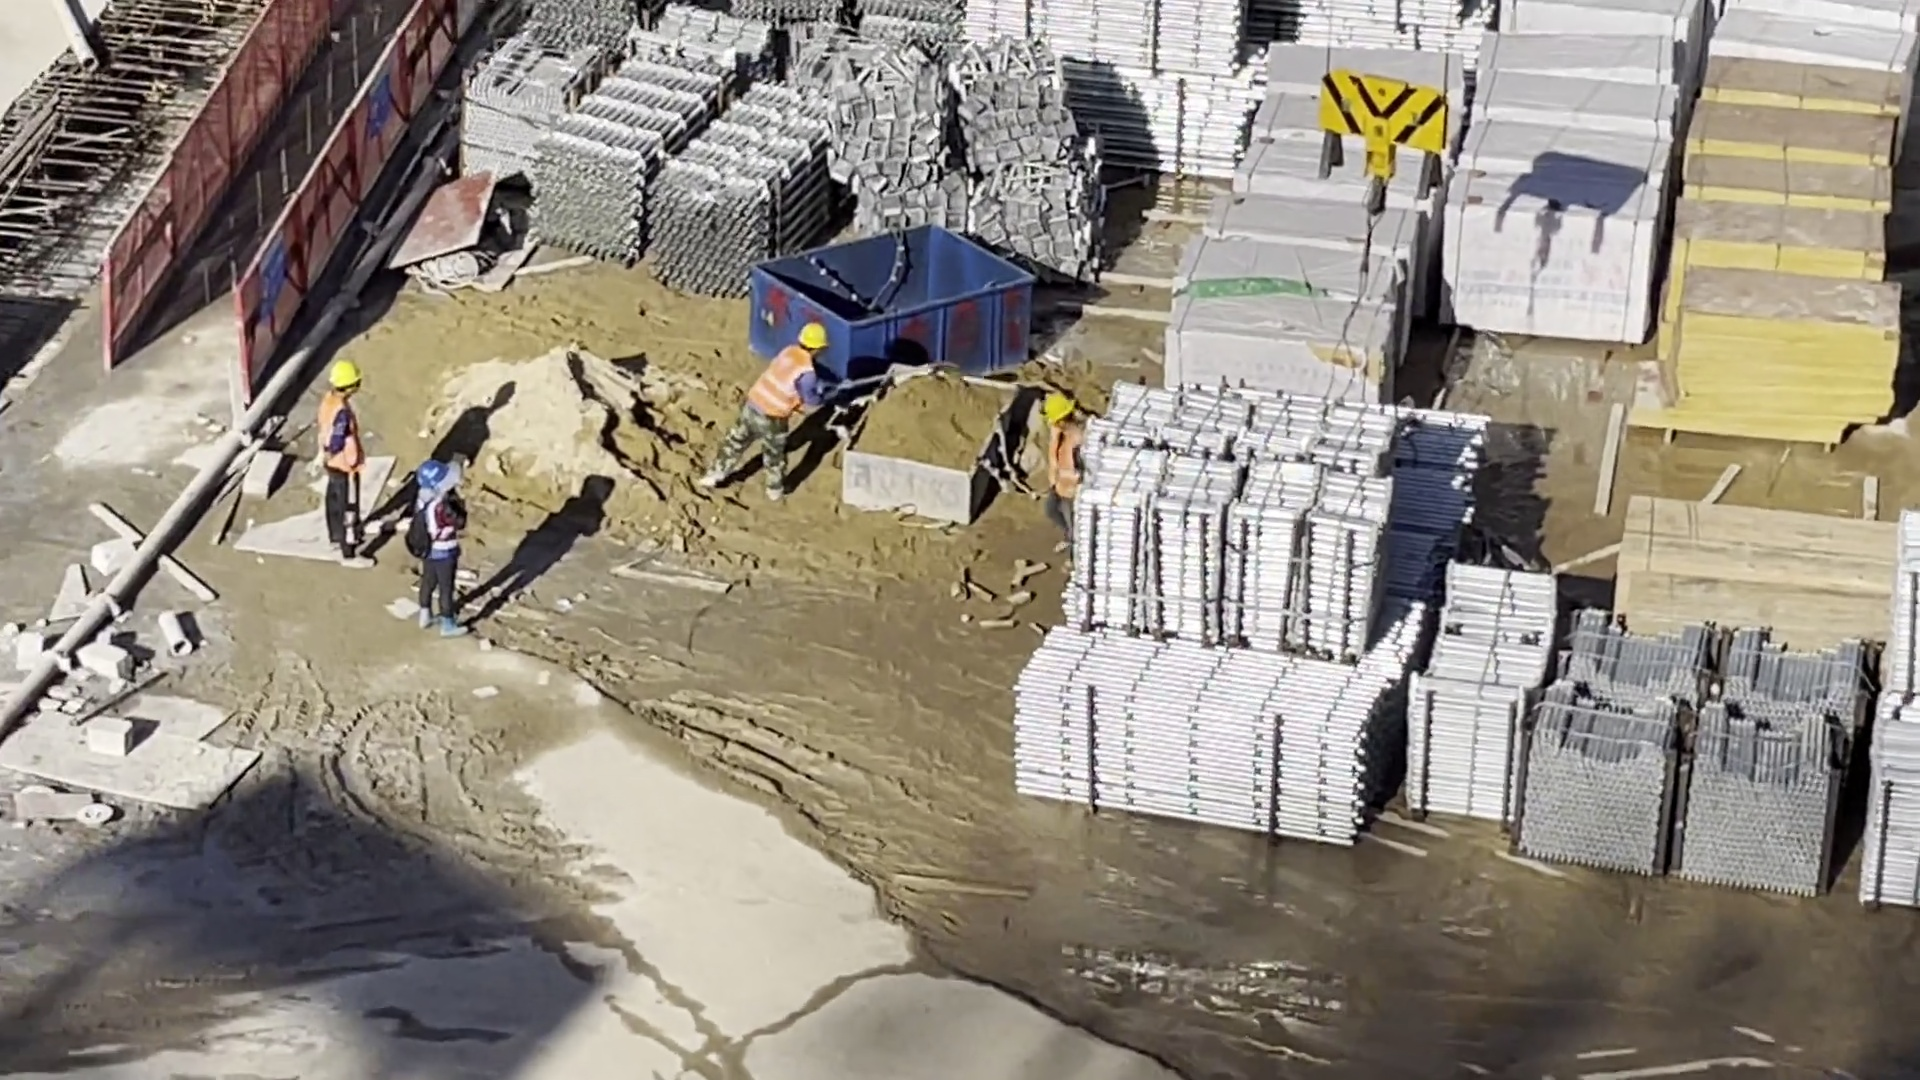fence: (97, 1, 479, 388)
helmet: (1033, 381, 1080, 430), (319, 351, 364, 401), (413, 455, 453, 499), (792, 318, 831, 352)
hook: (1300, 39, 1459, 229)
hopper: (767, 227, 1026, 374), (848, 359, 1013, 524)
person: (730, 309, 816, 521), (304, 358, 381, 588), (410, 460, 488, 646), (1028, 376, 1082, 549)
scaffold: (1098, 384, 1523, 860), (1568, 596, 1835, 901), (596, 27, 808, 279), (961, 1, 1235, 185)
vest: (751, 348, 810, 422), (310, 394, 363, 466), (1039, 425, 1083, 500)
